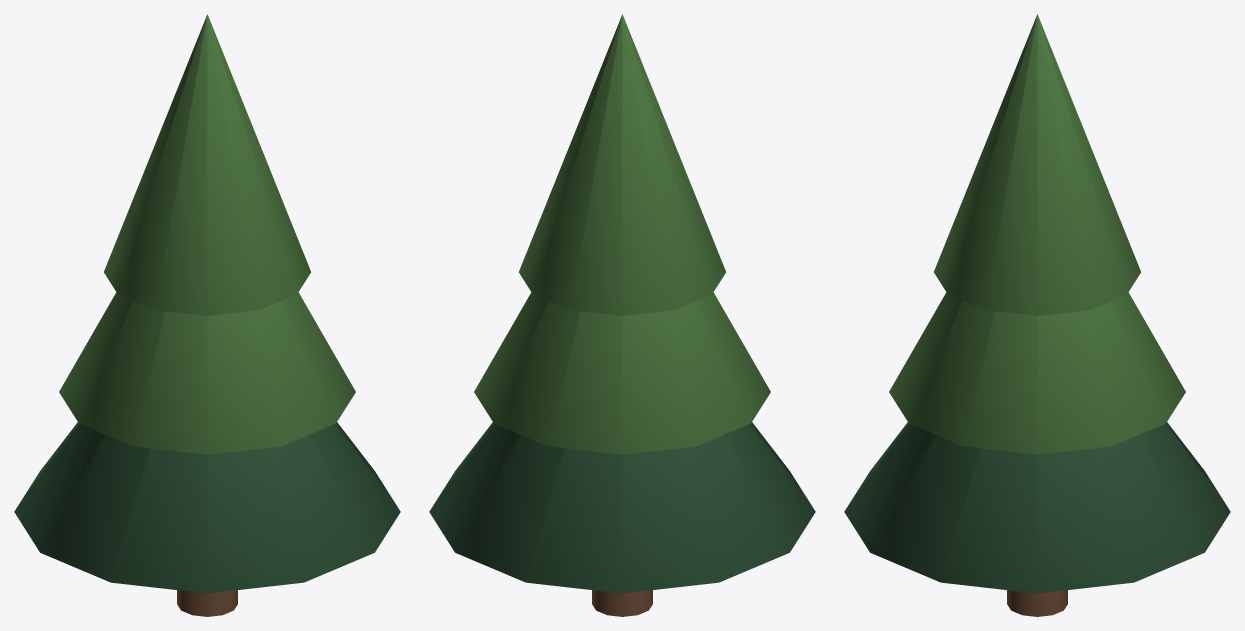
Rendered from pine_tree.glb.
3 views of the same model, side by side, from view 1: azimuth 30°, elevation 25°; view 2: azimuth 150°, elevation 25°; view 3: azimuth 270°, elevation 25° (orthographic).
Visible parts, largest first — view 1: needles (×3), trunk; view 2: needles (×3), trunk; view 3: needles (×3), trunk.
Boxes of the visible parts, bbox=[...] form: needles (×3): bbox=[14, 14, 400, 593]; trunk: bbox=[177, 590, 237, 616]; needles (×3): bbox=[429, 14, 815, 593]; trunk: bbox=[592, 590, 652, 616]; needles (×3): bbox=[844, 14, 1230, 593]; trunk: bbox=[1007, 590, 1067, 616].
Size of the model in its own units: 1.9 by 3.2 by 1.9.
